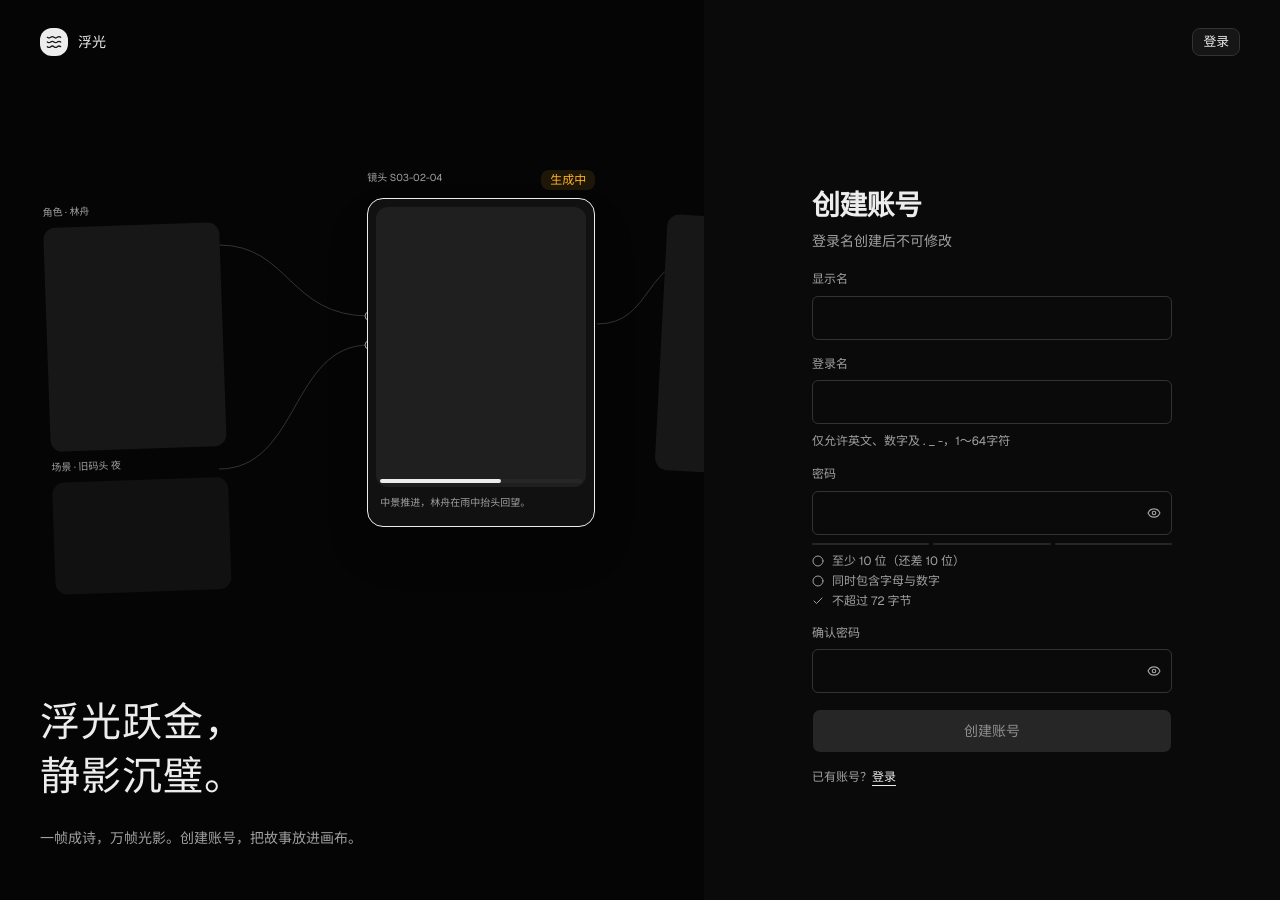
Scenario: 注册失败保留输入且不进入工作台
This screenshot has width=1280, height=900.
Type "Alice" into the field labelled "显示名" at [992, 318], box [812, 296, 1172, 340]
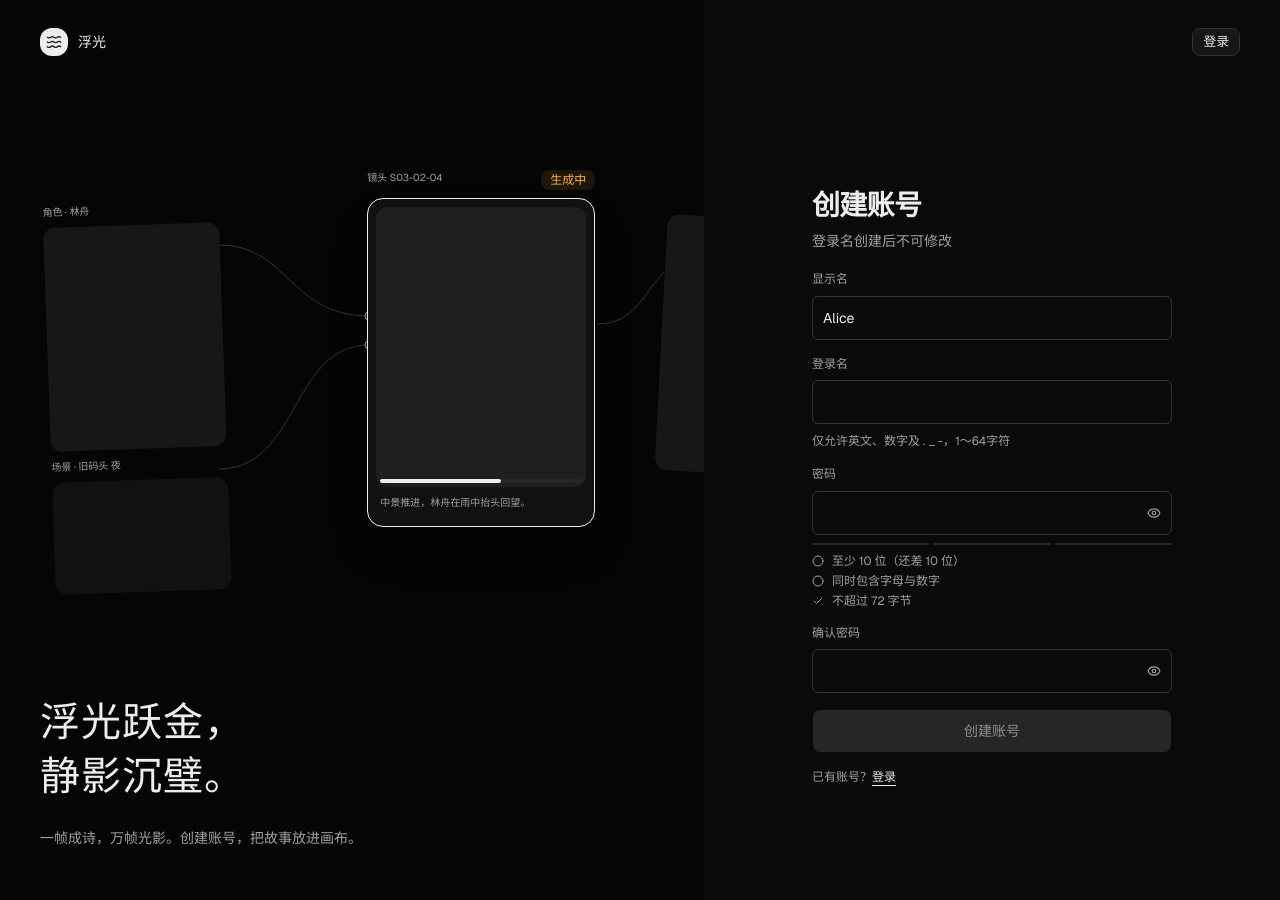
Type "alice" into the field labelled "登录名" at [992, 402], box [812, 380, 1172, 424]
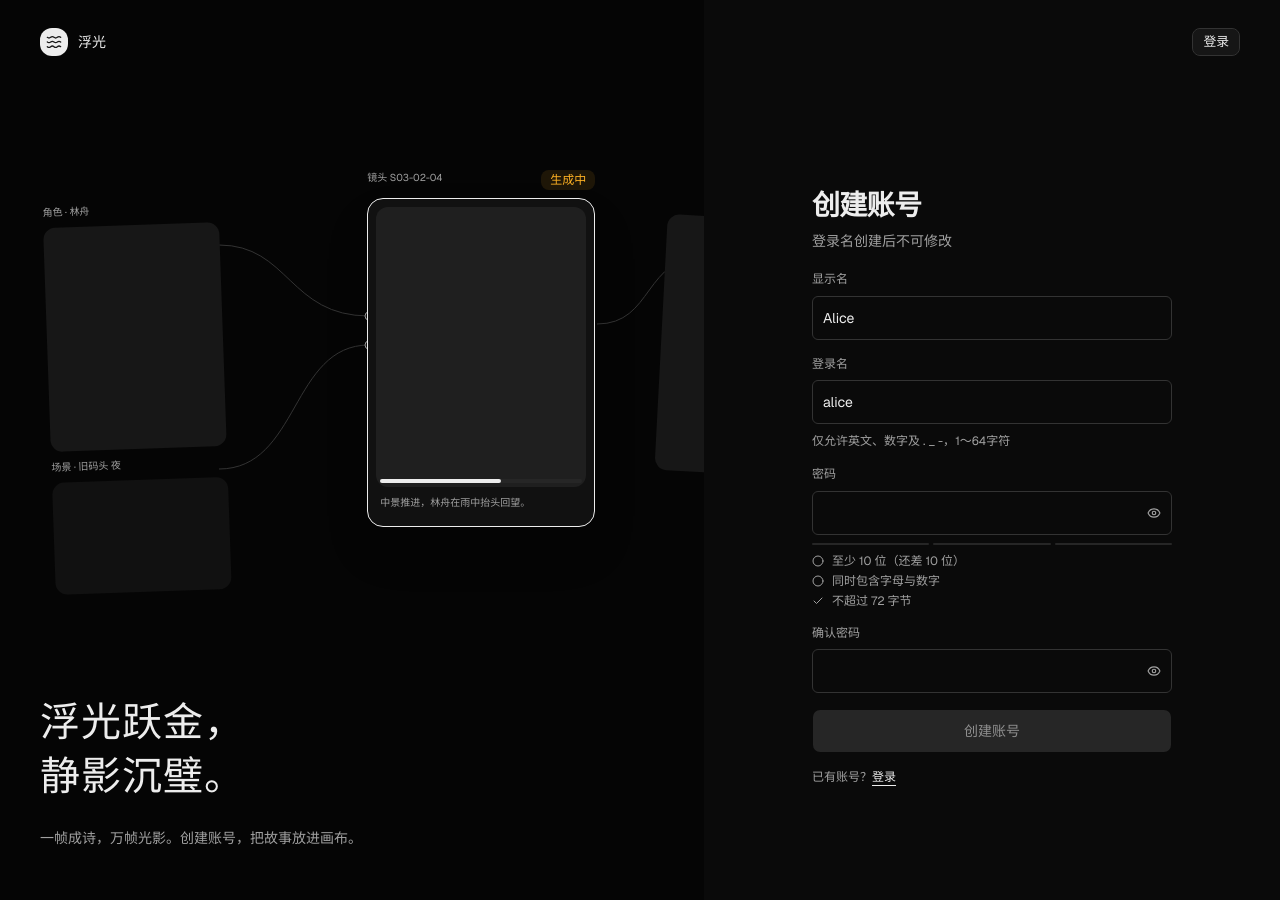
Type "Password12345" into the password field labelled "密码" at [976, 512], box [813, 496, 1140, 528]
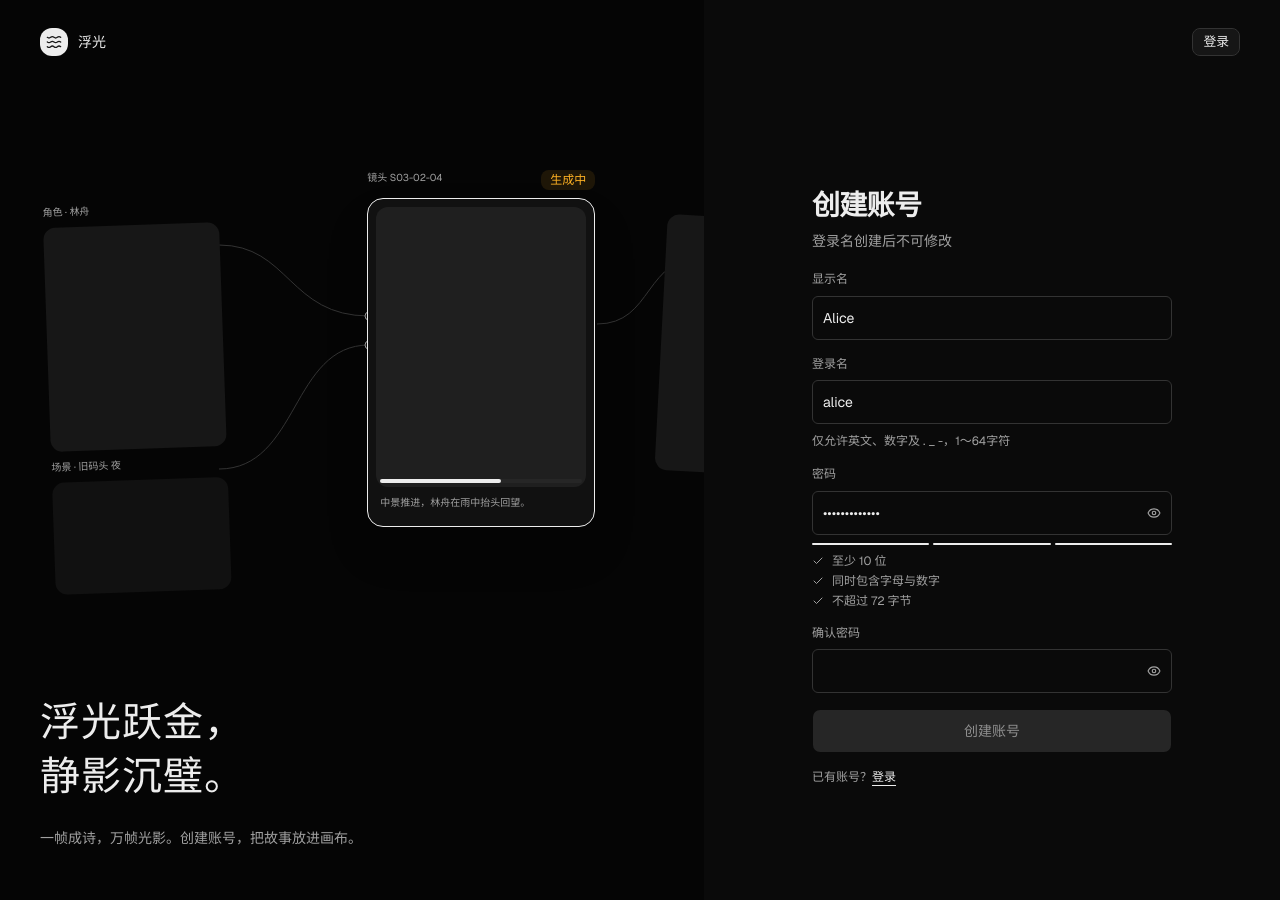
Type "Password12345" into the password field labelled "确认密码" at [976, 671], box [813, 655, 1140, 687]
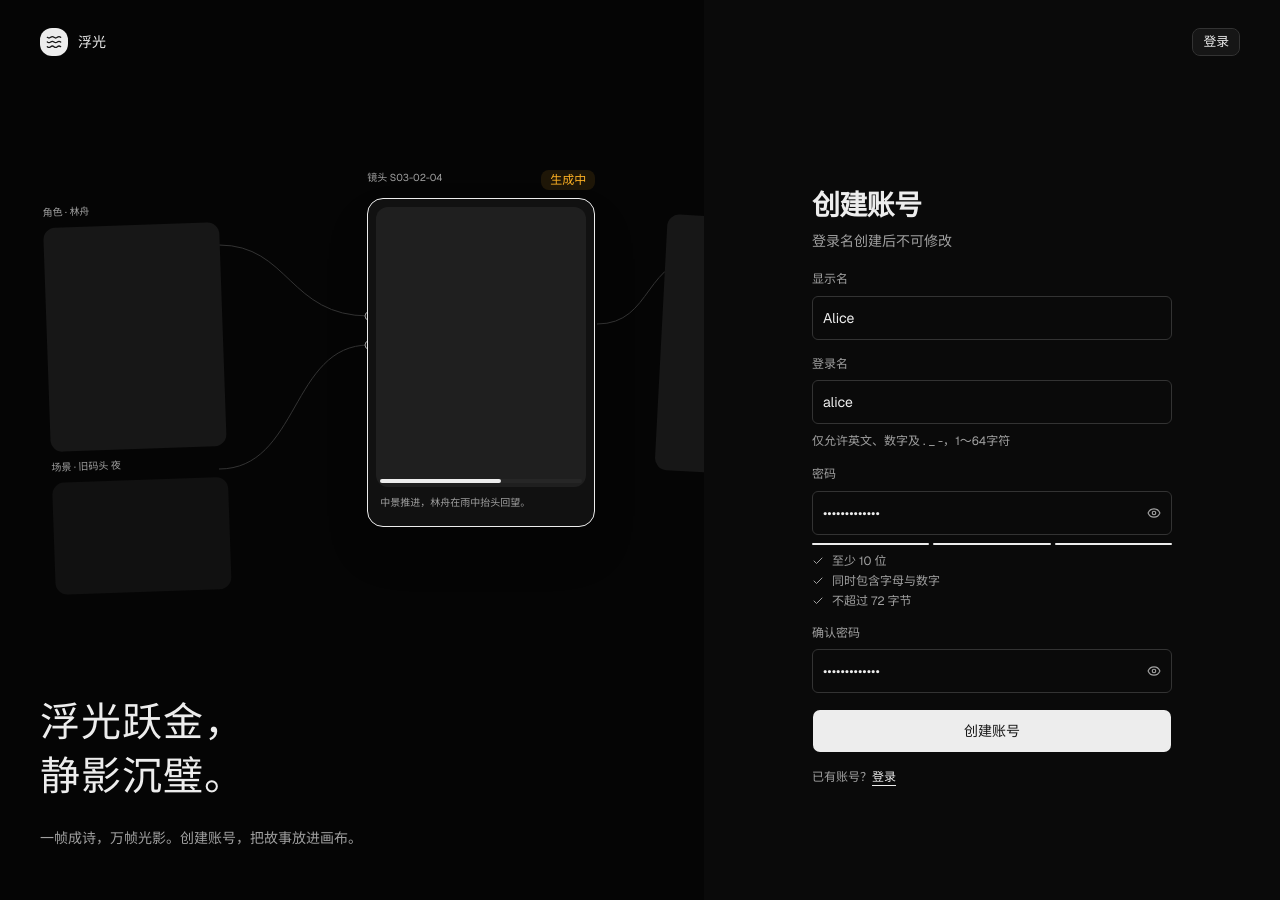
Click the button "创建账号" at [992, 731], box [812, 709, 1172, 753]
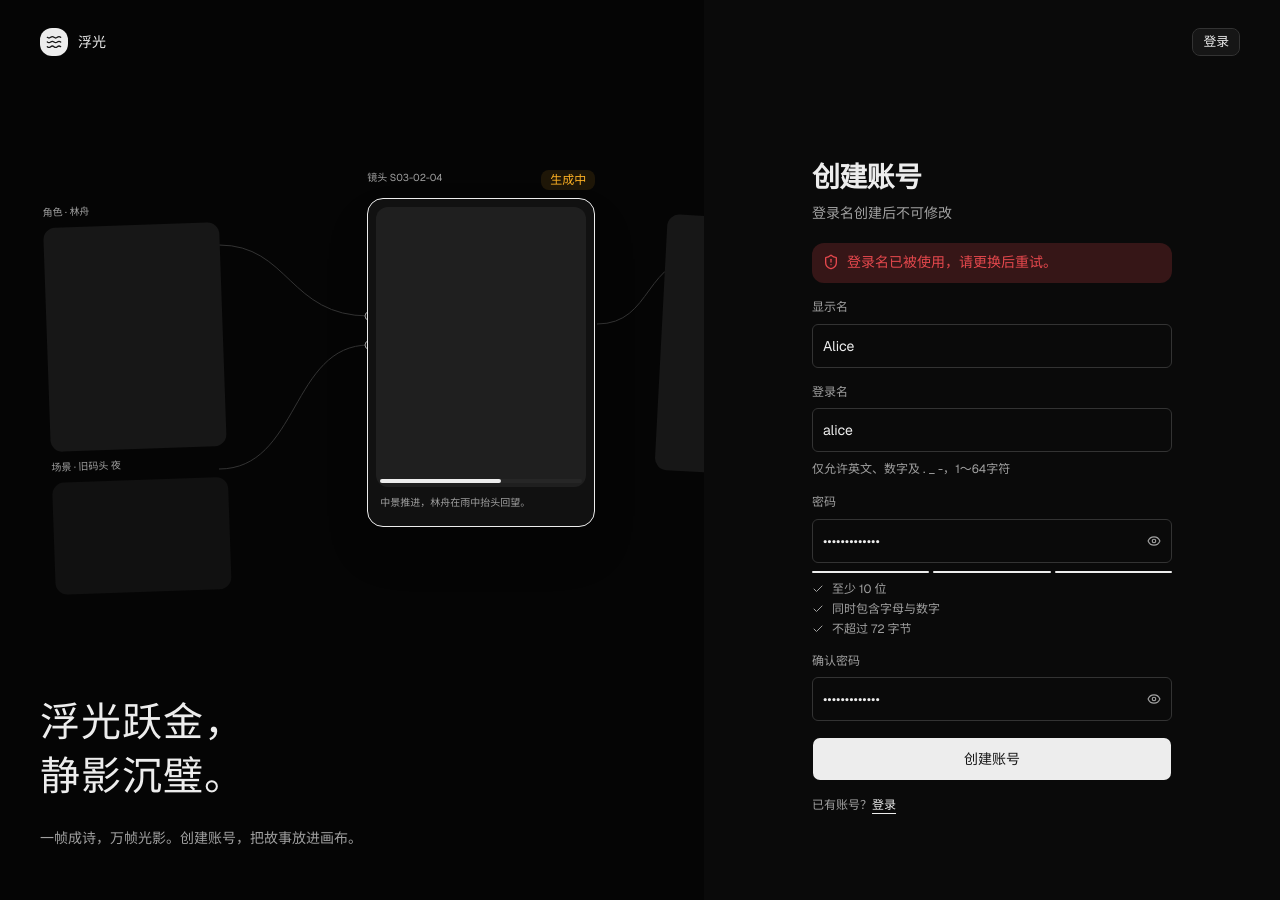
Expected: the message shows "已被使用", [847, 253, 1057, 271]
